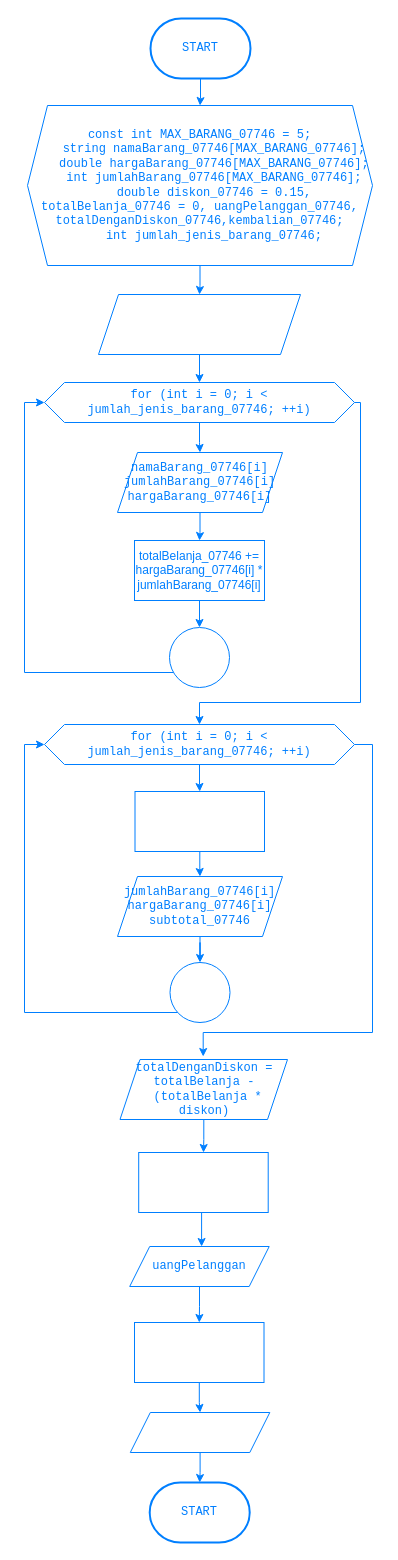
Image size: 398x1560. Some labels were removed from this diagram. The box of each missing label's shape, as (x1, y1, x2, y2) in pixels:
jumlah_jenis_barang_07746: (98, 294, 300, 354)
kembalian: (129, 1412, 270, 1452)
kembalian = uangPelanggan - totalDenganDiskon: (134, 1322, 264, 1382)
subtotal_07746 = hargaBarang_07746[i] * jumlahBarang_07746[i]: (134, 790, 264, 852)
totalBelanja totalBelanja * diskon totalDenganDiskon: (138, 1152, 268, 1212)
